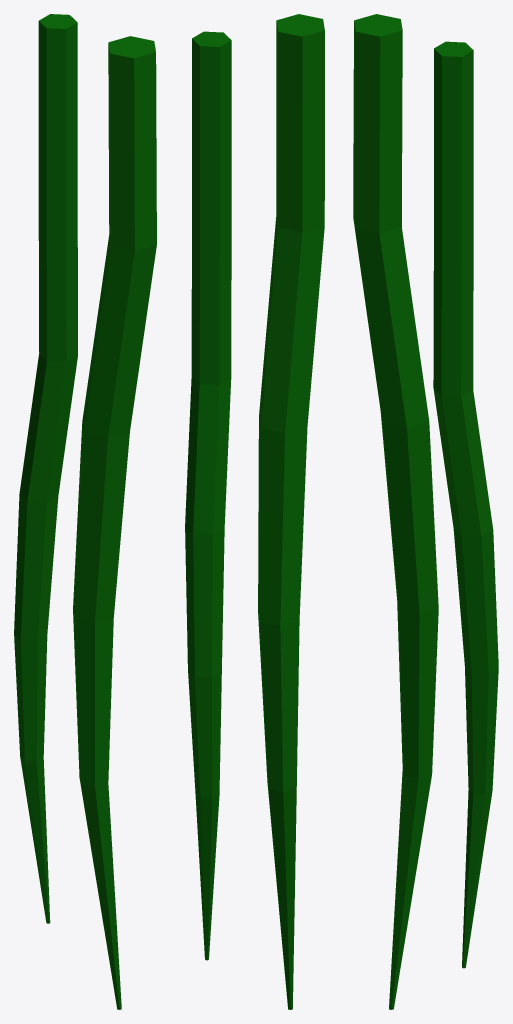
The model's file is vine_group_2.glb.
3 renders of one model, left to right at view 1: azimuth 90°, elevation 25°; view 2: azimuth 150°, elevation 25°; view 3: azimuth 270°, elevation 25°, orthographic.
Parts seen in each view (by area): view 1: vine-col, vine.004-col; view 2: vine-col, vine.004-col; view 3: vine-col, vine.004-col.
Part boxes in pixels (x1,y1,x2,y2): vine-col: [73, 36, 156, 1009]; vine.004-col: [14, 14, 77, 923]; vine-col: [258, 14, 324, 1009]; vine.004-col: [185, 31, 231, 960]; vine-col: [353, 14, 438, 1009]; vine.004-col: [433, 41, 498, 968].
Bounding box in the file's own units: 0.4135 × 4.26 × 0.5721.
